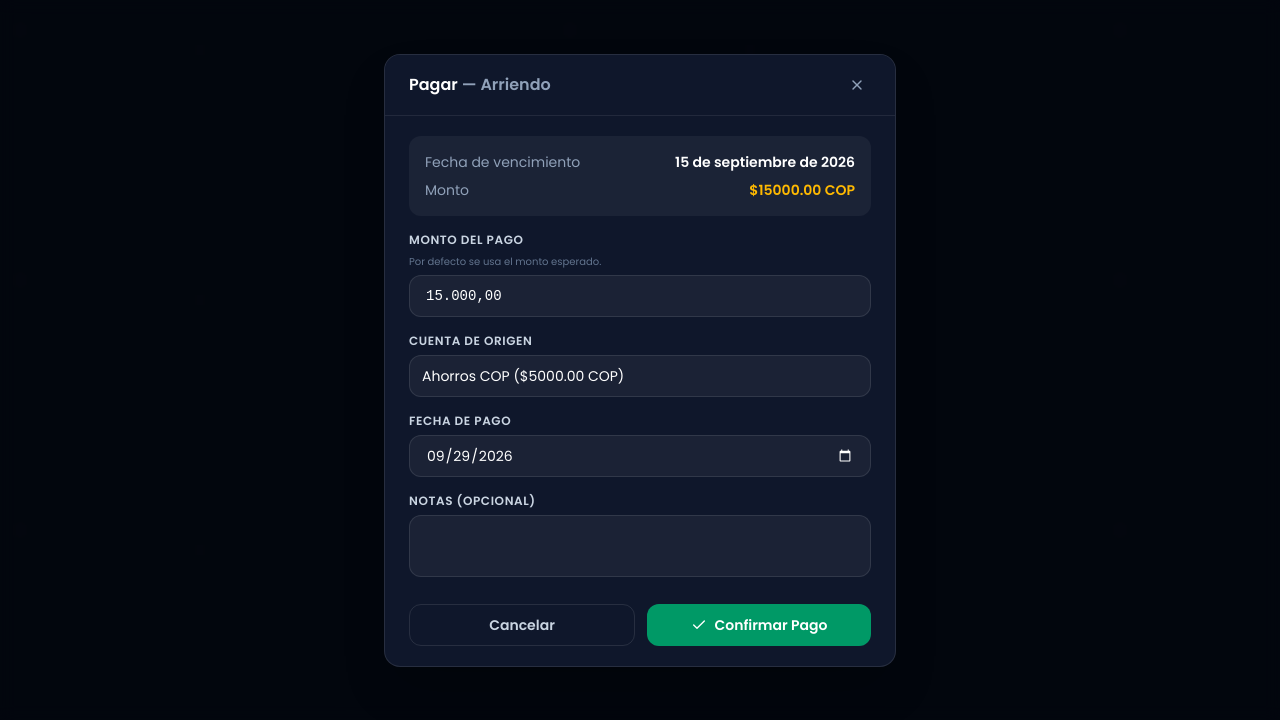
PayFixedExpenseModal › keeps the idempotency key stable across a failed retry
The width and height of the screenshot is (1280, 720).
expect the element that starts with "Pagar" is shown: met, box [384,54,896,666]
Click the submit button at (759, 624), box [647,604,871,646]
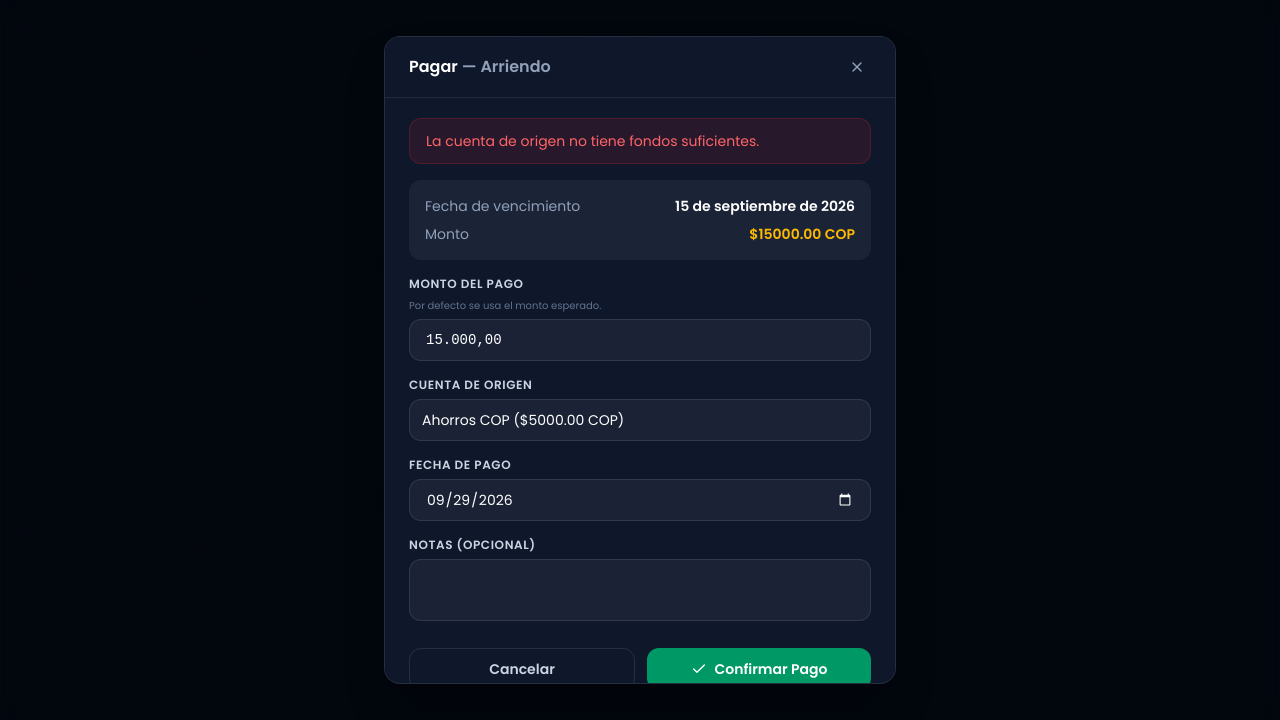
expect the message "La cuenta de origen no tiene fondos suficientes." is shown: met, box [409,118,871,164]
